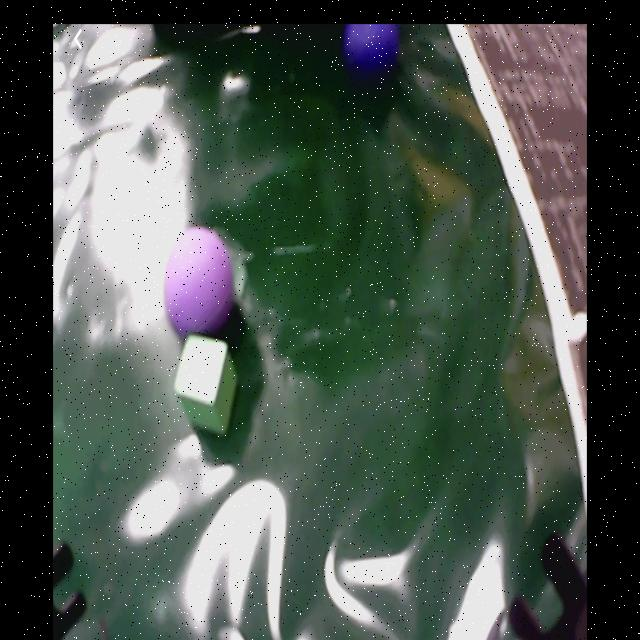ball: (165, 228, 233, 339), (347, 27, 405, 69)
